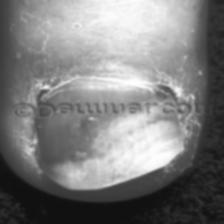Toxin: (23, 114, 184, 190)
